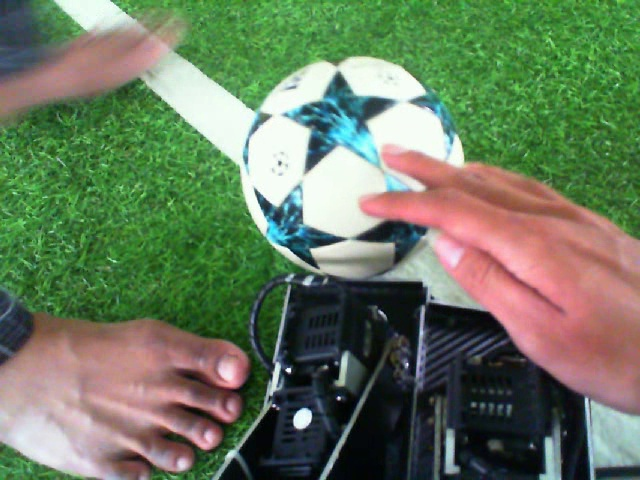ball: (236, 53, 468, 281)
